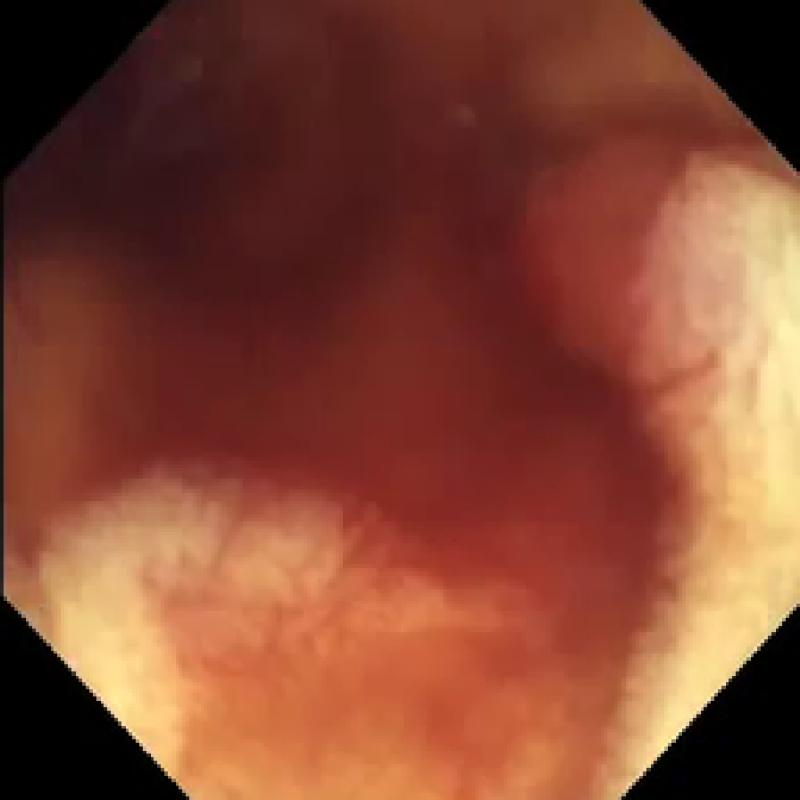bleeding: (0, 0, 757, 714)
